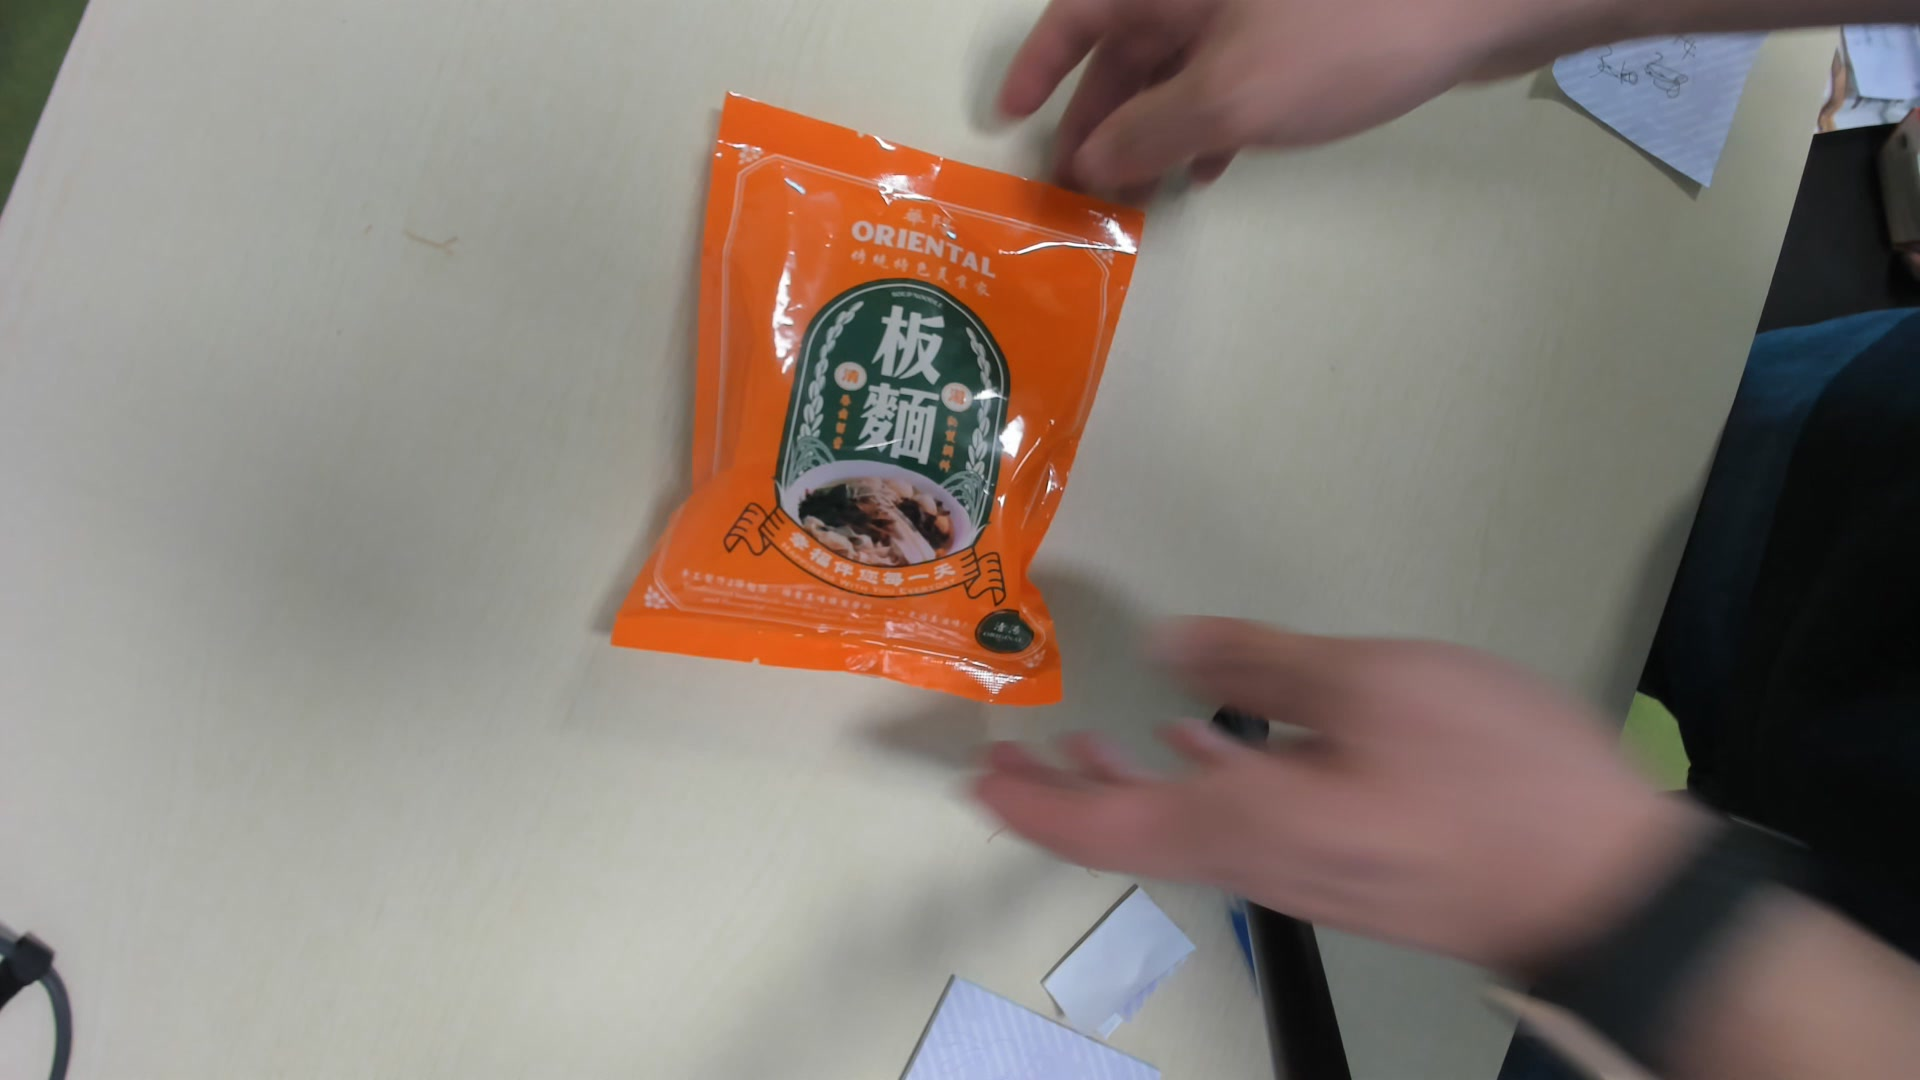InstantMeals_100-199g_NonHalal_Healthy: (608, 95, 1174, 719)
